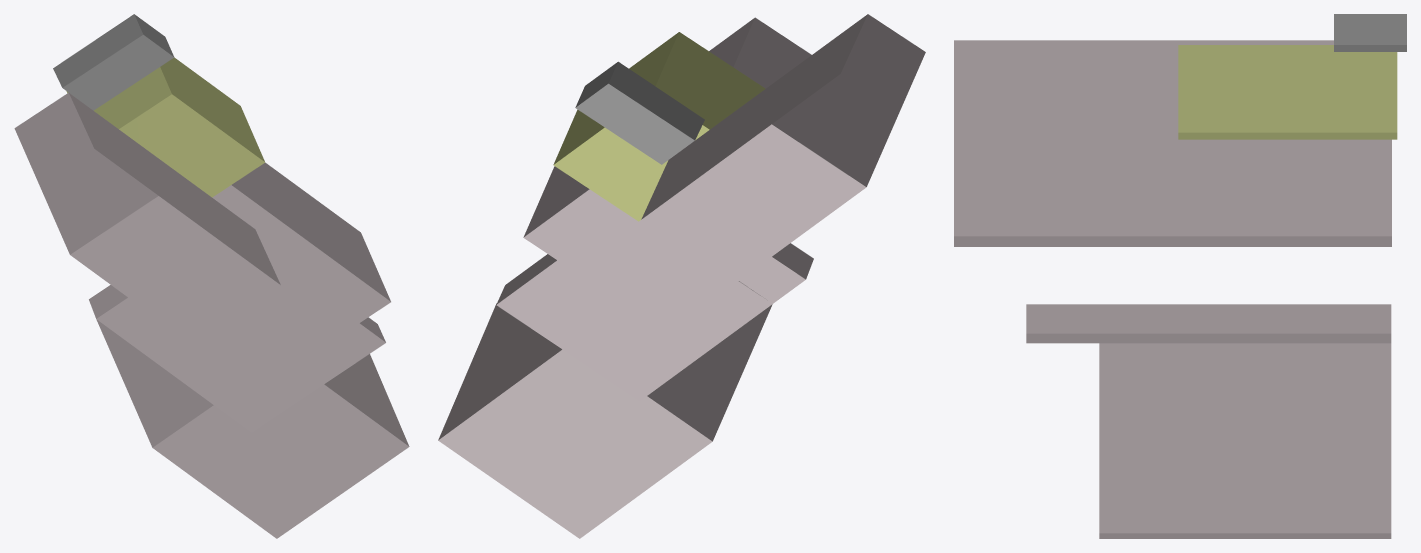
3 views of the same model, side by side, from view 1: azimuth 30°, elevation 25°; view 2: azimuth 150°, elevation 25°; view 3: azimuth 270°, elevation 25° (orthographic). The views are drawn at different scales.
Parts seen in each view (by area): view 1: 0_2_2_0_3_3_3_3_2_0; view 2: 0_2_2_0_3_3_3_3_2_0; view 3: 0_2_2_0_3_3_3_3_2_0.
Part boxes in pixels (x1,y1,x2,y2): 0_2_2_0_3_3_3_3_2_0: (14,14,409,538); 0_2_2_0_3_3_3_3_2_0: (438,14,925,538); 0_2_2_0_3_3_3_3_2_0: (954,14,1406,538).
Bounding box in the file's own units: 15.04 × 22.97 × 18.61.
